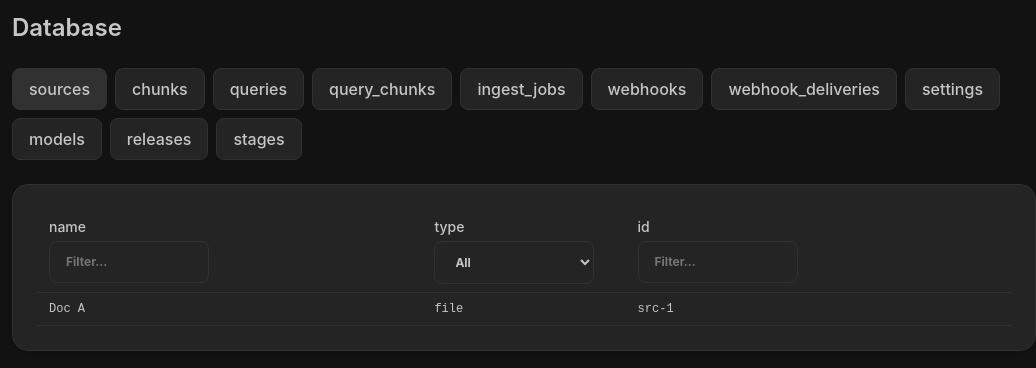
it: DatabasePage › switches table via tab buttons
This screenshot has width=1036, height=368.
Expected: the text "Doc A" is shown, [37, 292, 422, 326]
Click the button "chunks": click(160, 89) [115, 68, 205, 110]
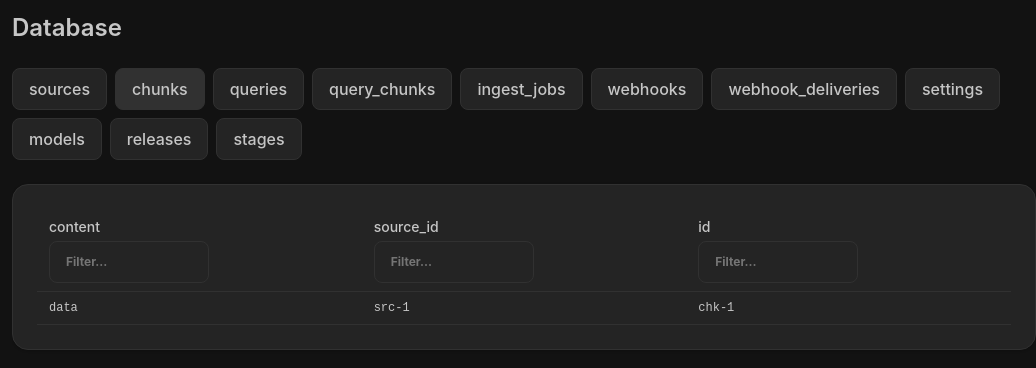
Now the text "data" is shown, box [37, 292, 362, 324]
